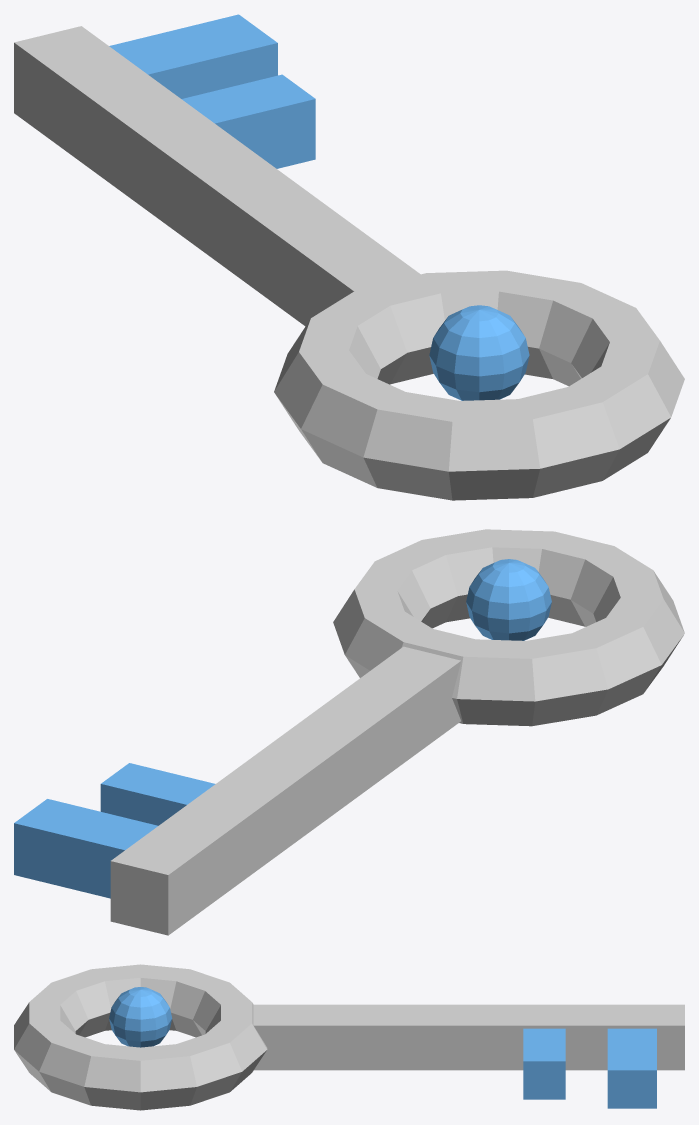
Rendered from chambers_held.gltf.
The picture shows the model from 3 angles, top to bottom: view 1: azimuth 30°, elevation 25°; view 2: azimuth 150°, elevation 25°; view 3: azimuth 270°, elevation 25°; orthographic projection. The views are drawn at different scales.
Visible parts, largest first — view 1: keys_chambers_held; view 2: keys_chambers_held; view 3: keys_chambers_held.
Part boxes in pixels (x1,y1,x2,y2): keys_chambers_held: (14,14,684,500); keys_chambers_held: (14,529,684,935); keys_chambers_held: (14,964,684,1110).
Bounding box in the file's own units: 0.074 × 0.0228 × 0.1911.
